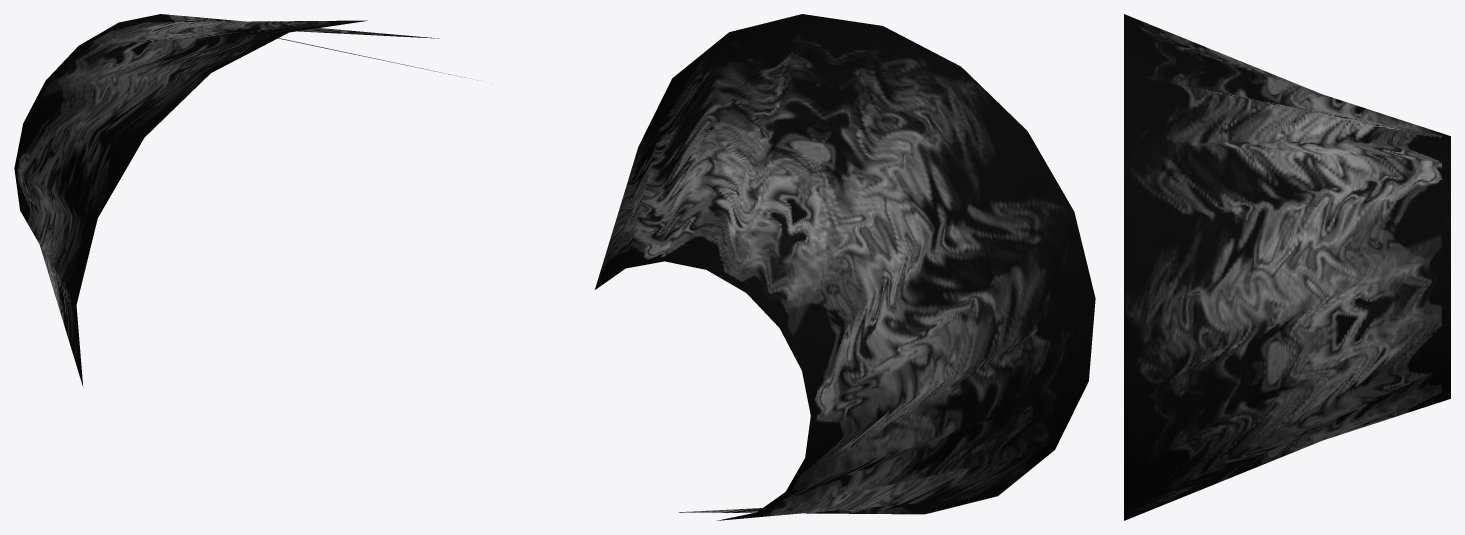
Rendered from Suhwanzin1.glb.
The picture shows the model from 3 angles, left to right: view 1: azimuth 30°, elevation 25°; view 2: azimuth 150°, elevation 25°; view 3: azimuth 270°, elevation 25°; orthographic projection. The views are drawn at different scales.
Parts seen in each view (by area): view 1: model_Suhwanzin1; view 2: model_Suhwanzin1; view 3: model_Suhwanzin1.
Part boxes in pixels (x1,y1,x2,y2): model_Suhwanzin1: [14, 14, 470, 387]; model_Suhwanzin1: [595, 14, 1095, 520]; model_Suhwanzin1: [1124, 14, 1450, 520].
Bounding box in the file's own units: 3.05 × 3.05 × 1.97.
Materials: 1 (1 with a texture image).
